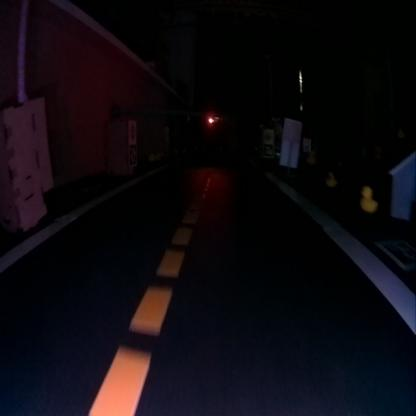Duckie: (360, 186, 376, 212), (326, 172, 336, 184), (306, 151, 316, 163)
QR code: (376, 238, 414, 268), (128, 145, 135, 164), (264, 143, 272, 156)
Traffic light: (206, 112, 214, 125)
